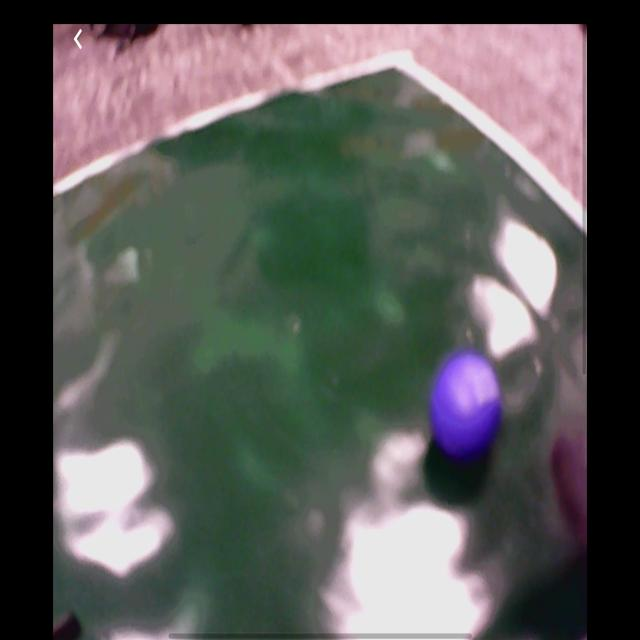ball: (431, 348, 502, 458)
